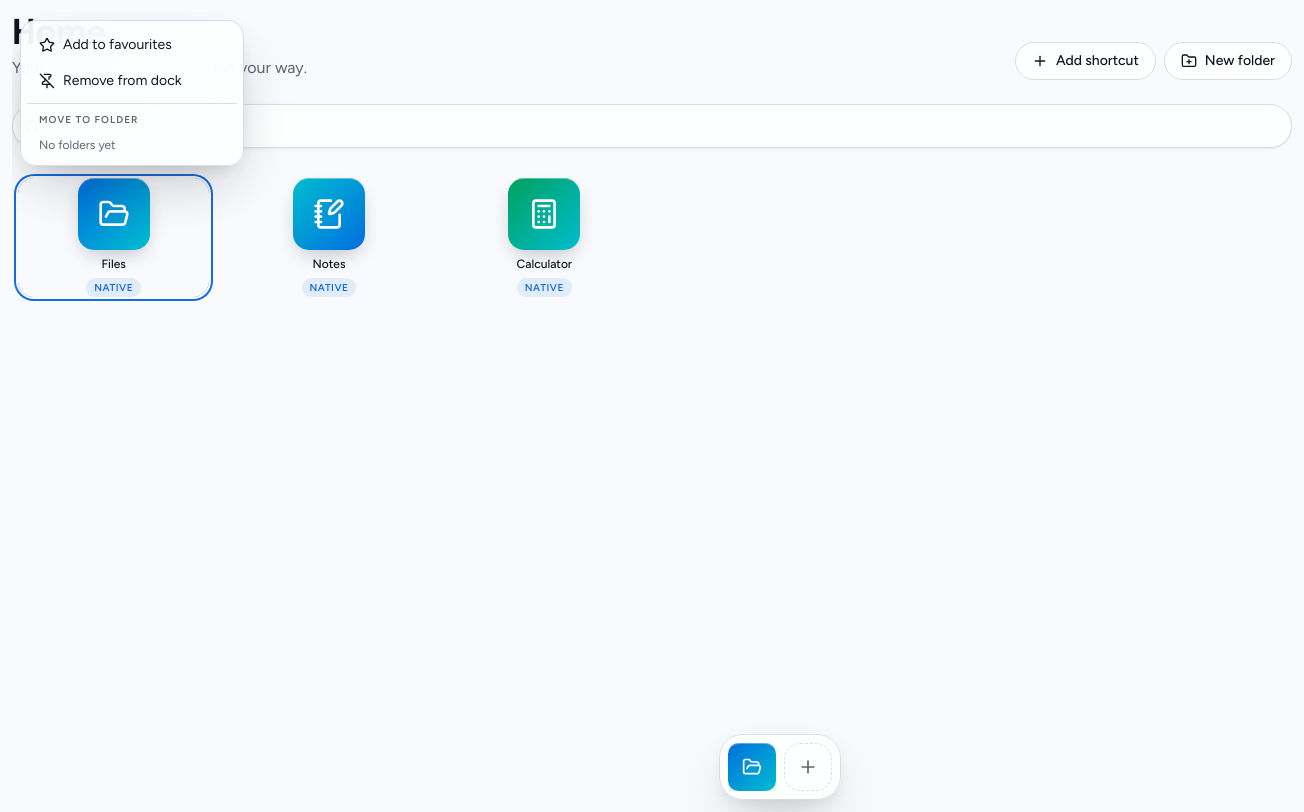
Scenario: Home context menu dismissal baseline › still performs the favourite action from the menu
Click the menu item "Add to favourites".
click(132, 45)  # box [27,27,237,63]
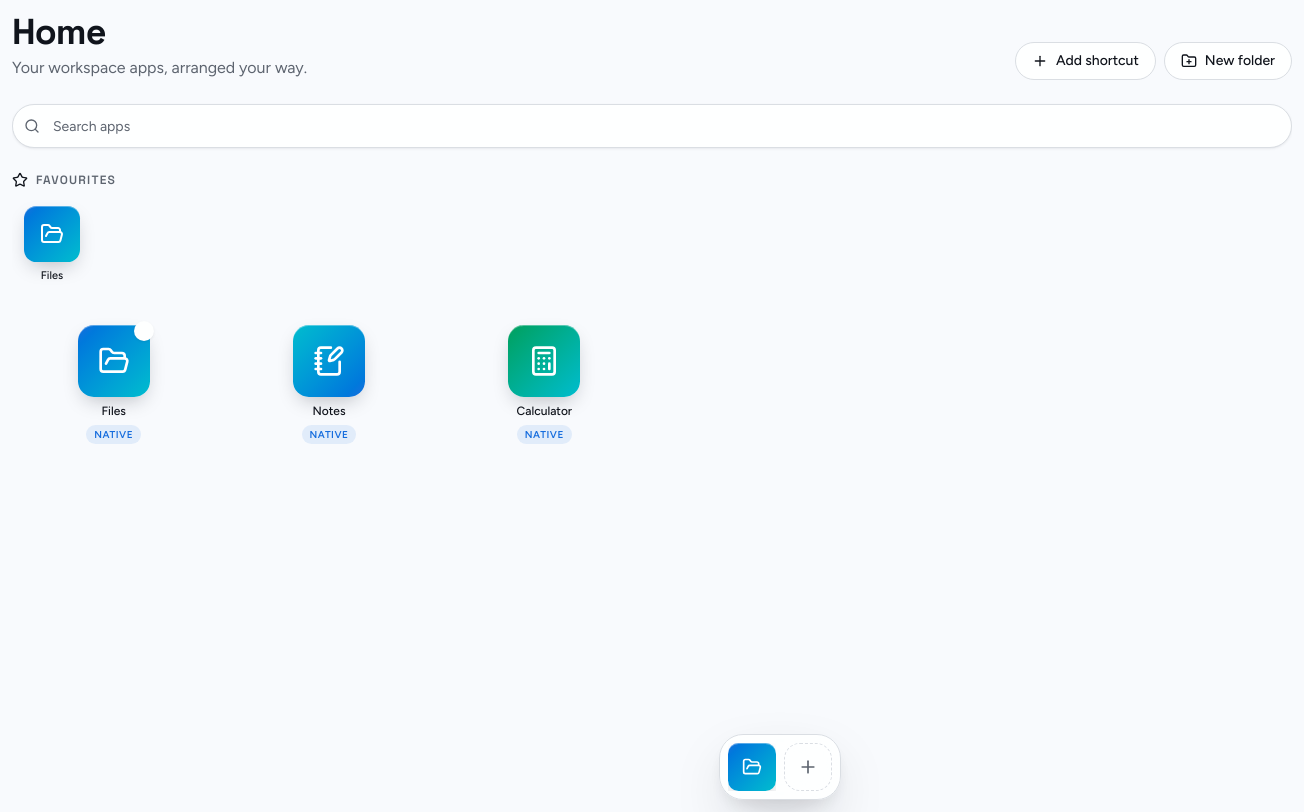
Expected: the menu is gone
